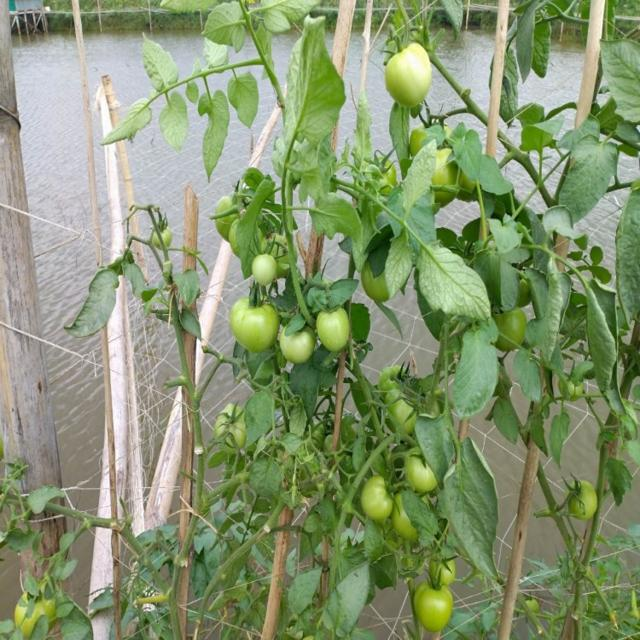tomato: (231, 294, 278, 348), (387, 40, 428, 95), (416, 582, 459, 634), (317, 308, 357, 355), (18, 589, 57, 636), (279, 322, 313, 374), (212, 194, 245, 240), (493, 309, 530, 350), (404, 451, 438, 493), (567, 484, 600, 525), (216, 401, 246, 446), (378, 363, 421, 394), (362, 477, 392, 520), (411, 117, 453, 146), (357, 266, 392, 300), (432, 146, 464, 183), (391, 391, 420, 430), (428, 550, 459, 582), (559, 371, 588, 401), (399, 494, 415, 544), (252, 253, 276, 285), (371, 157, 394, 189), (151, 225, 173, 255), (527, 594, 544, 618)
